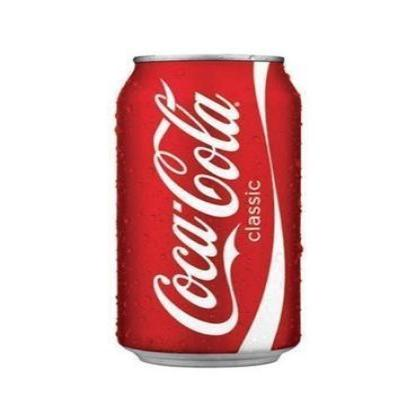alumunium_can: (115, 51, 306, 369)
